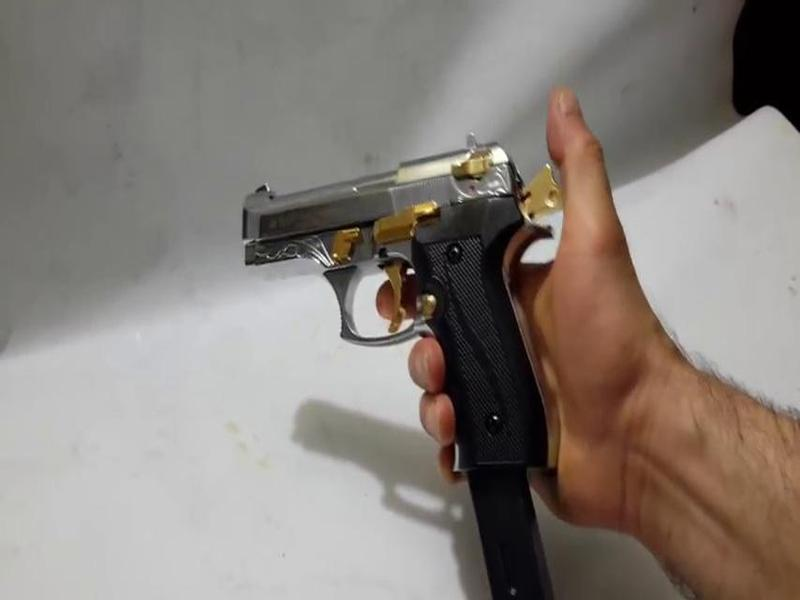Pistola: (240, 118, 594, 474)
